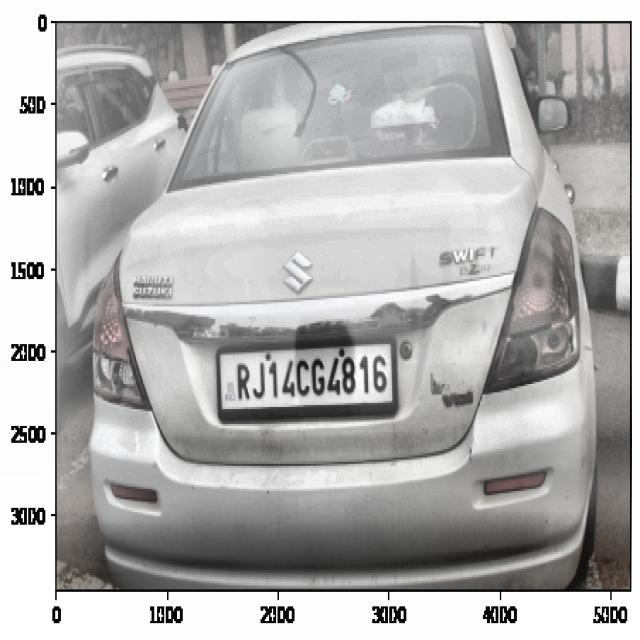license_plate: (227, 349, 394, 416)
